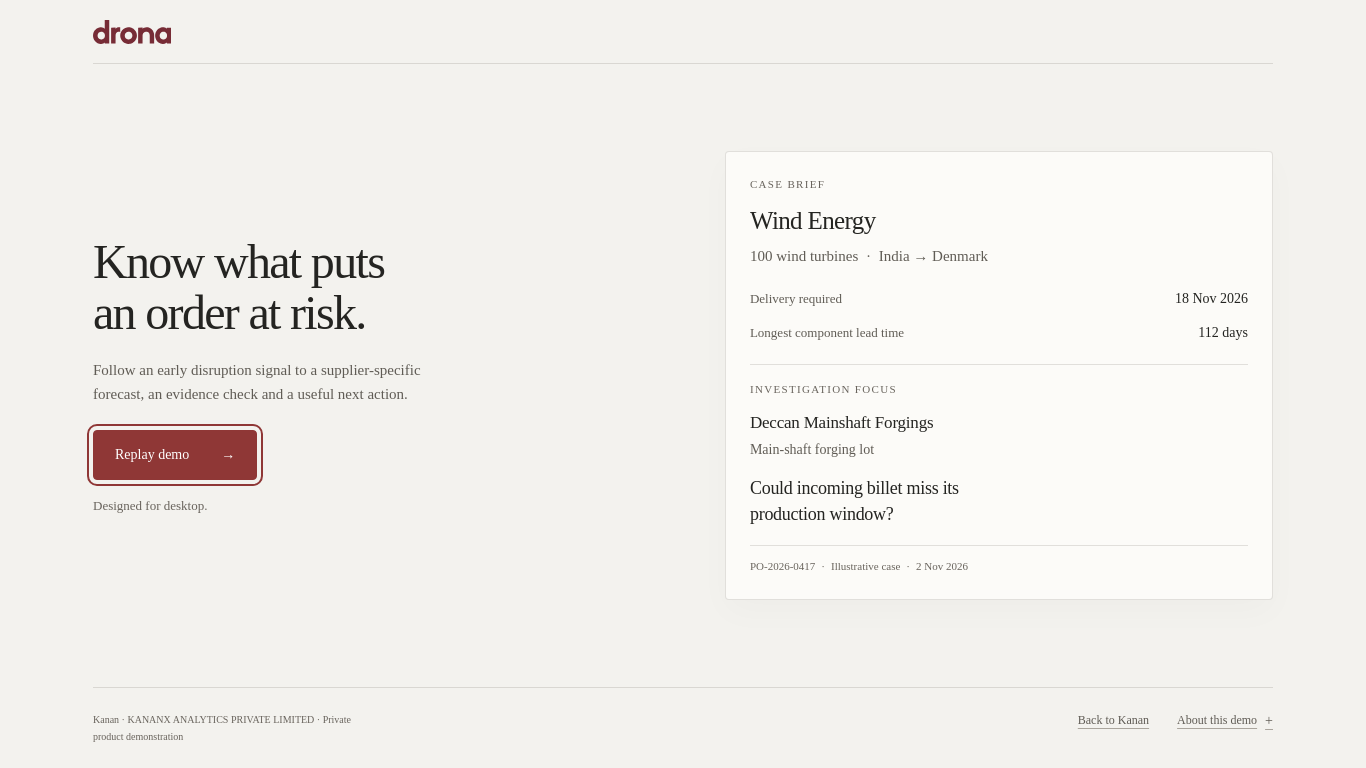
Test: guided demonstration with the actual supplier workspace › introduces the map before allowing an order, and supports reviewing that introduction
The image size is (1366, 768).
Earlier steps of the test are not shown.
What coordinates should you click on to do the following:
click the button "Replay demo →"
I would click on:
 (175, 455)
Its box is [93, 430, 257, 480].
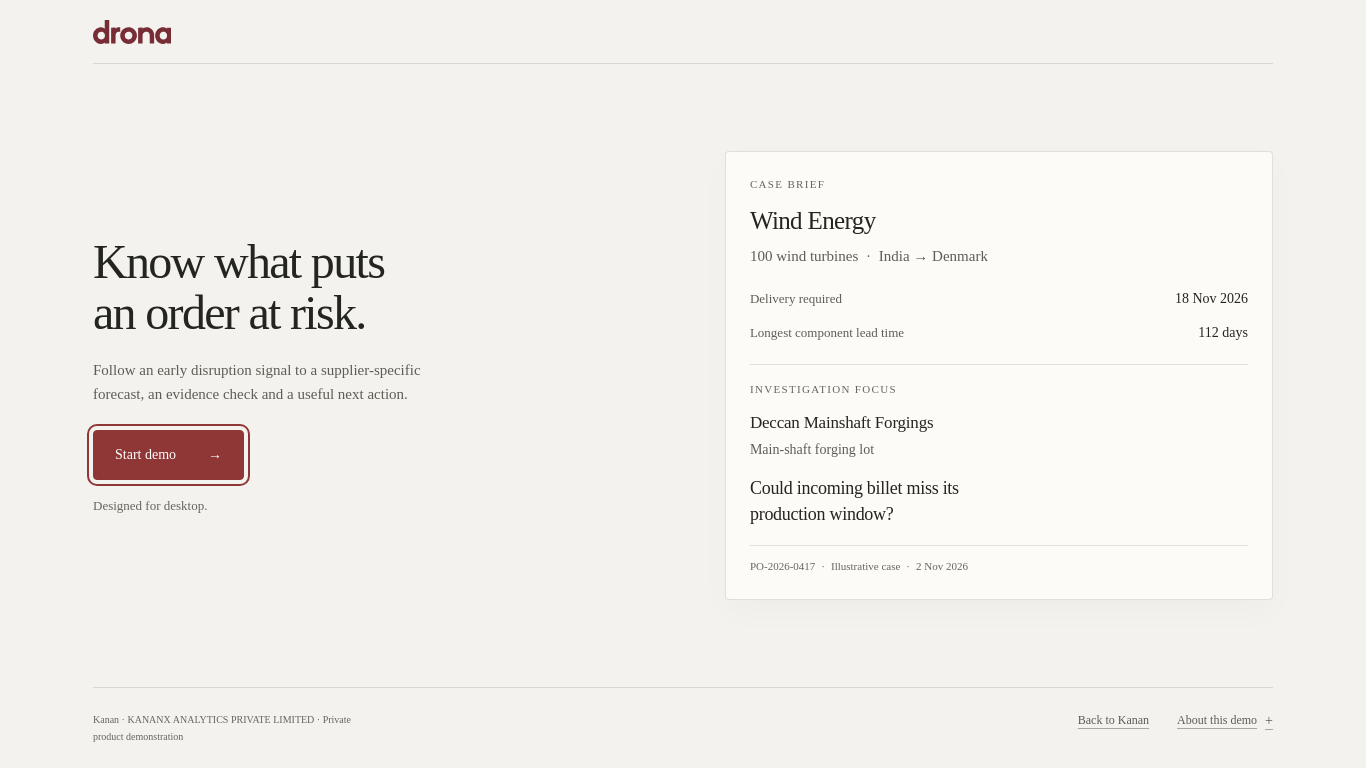
What coordinates should you click on to do the following:
click the button "Start demo →"
I would click on:
 (168, 455)
Its box is [93, 430, 244, 480].
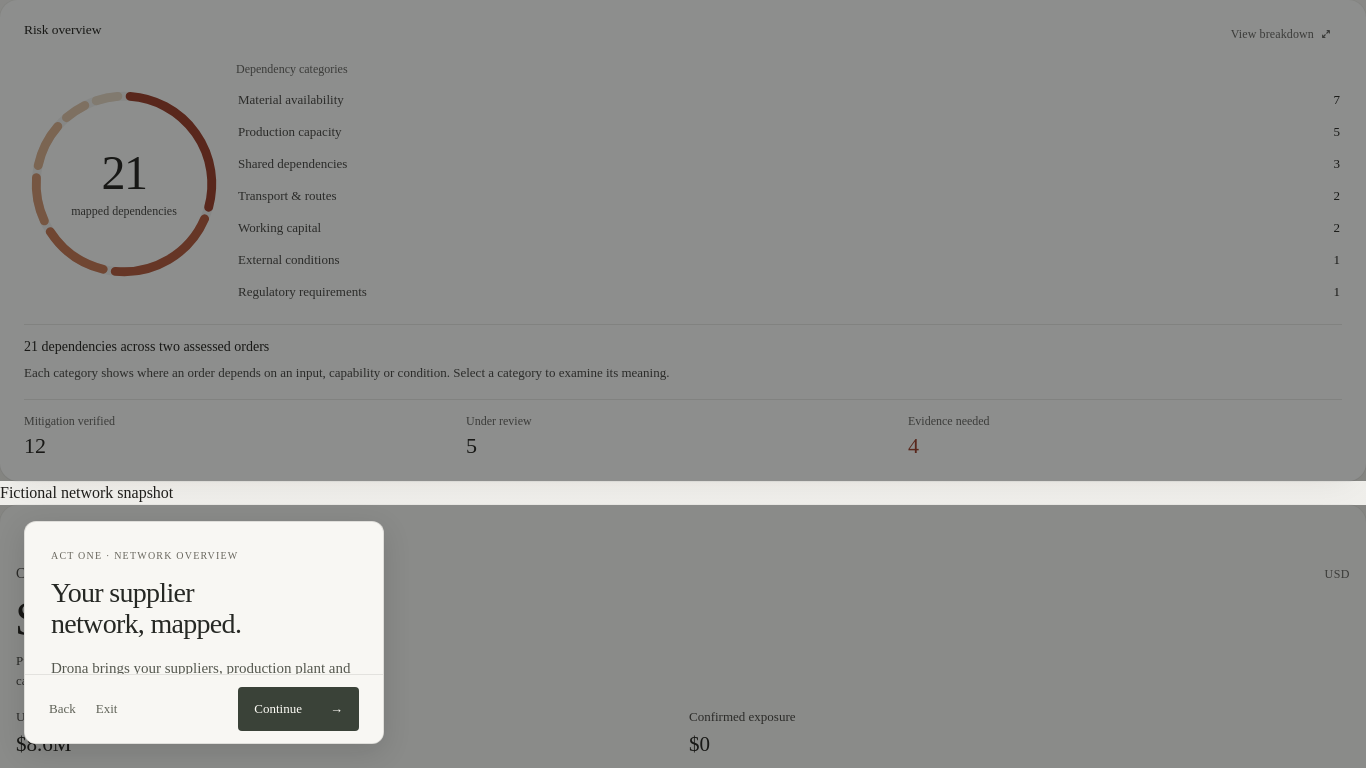
expect the dialog is shown: met, box [0, 481, 1365, 744]
